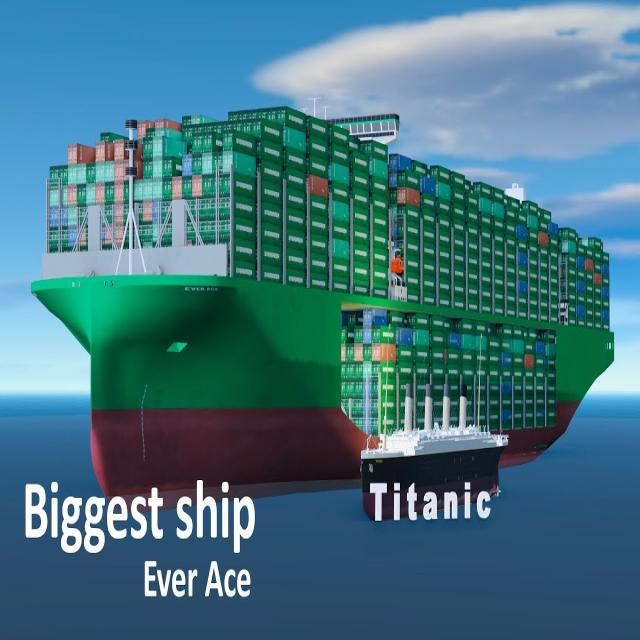boat: (18, 60, 620, 550)
